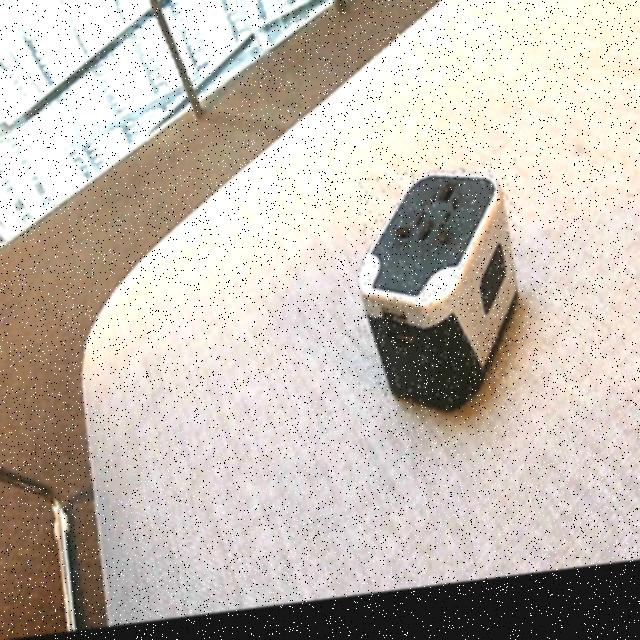adapter: (357, 172, 517, 433)
